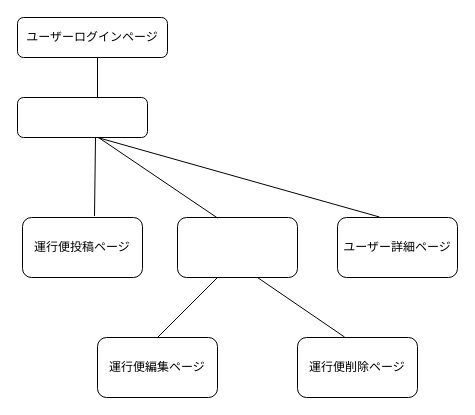
Some shapes in this 475 by 415 pixel diagram are drawn without their labels. The shapes that lost their labels are listed below. From the top down, each one's centre as x and y in pixels, then its label:
the point at 82,117: 一覧ページ
the point at 237,247: 運行便詳細ページ
